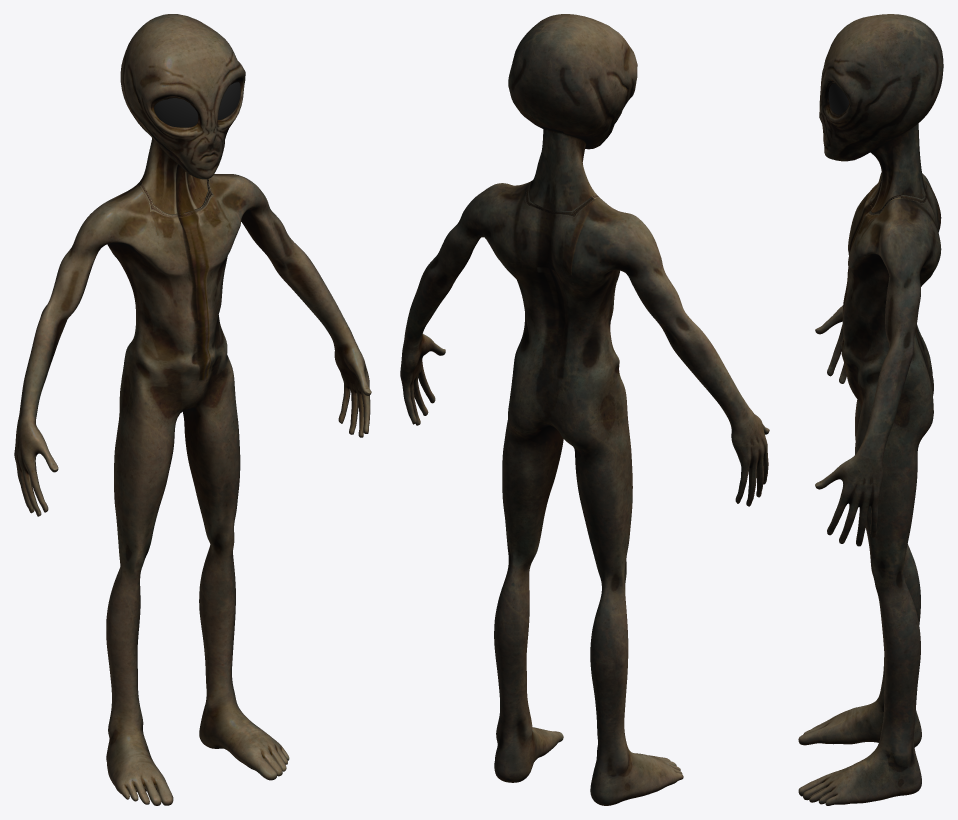
File: alien_model.glb
The picture shows the model from 3 angles, left to right: view 1: azimuth 30°, elevation 25°; view 2: azimuth 150°, elevation 25°; view 3: azimuth 270°, elevation 25°; orthographic projection. The views are drawn at different scales.
Parts seen in each view (by area): view 1: AlienHeadLp; view 2: AlienHeadLp; view 3: AlienHeadLp.
Part boxes in pixels (x1=…): AlienHeadLp: x1=14, y1=14, x2=371, y2=805; AlienHeadLp: x1=400, y1=14, x2=769, y2=805; AlienHeadLp: x1=798, y1=14, x2=943, y2=805.
Bounding box in the file's own units: 0.9048 × 1.85 × 0.3239.
4 materials, 4 textured.
